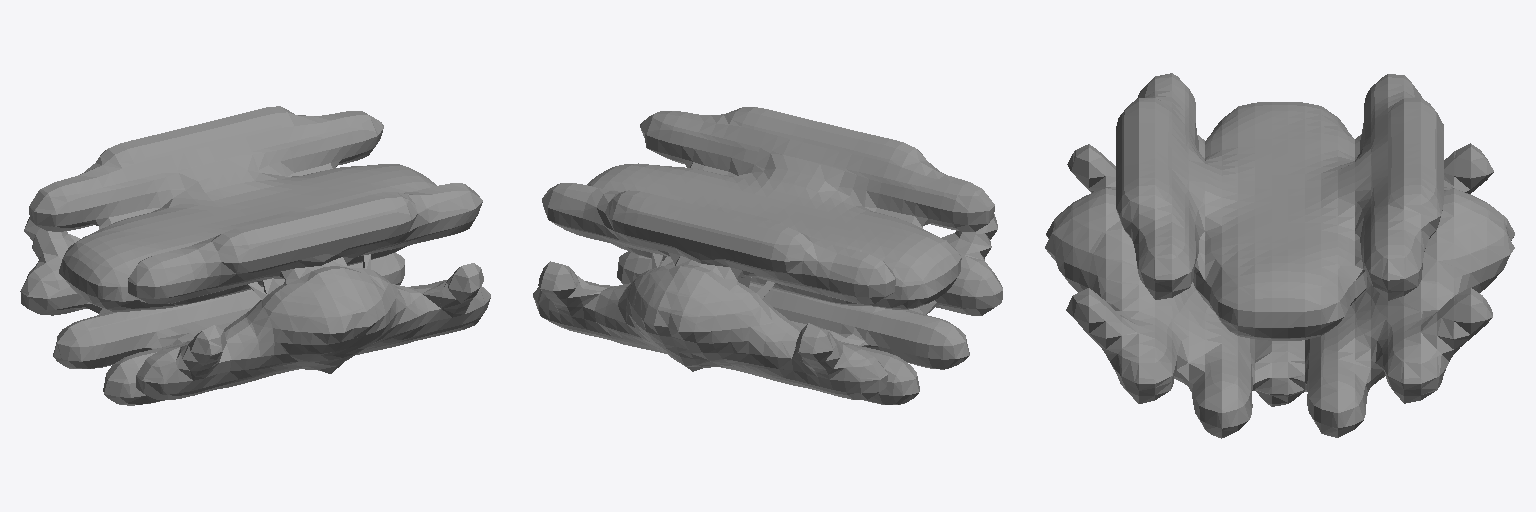
The robot description file, URDF, robot "cube.urdf":
<?xml version="0.0" ?> 
<robot name="cube.urdf"> 
<link name="legobrick"> 
<contact> 
<lateral_friction value="5.0"/> 
<rolling_friction value="0.0"/> 
<contact_cfm value="0.0"/> 
<contact_erp value="1.0"/> 
</contact> 
<inertial> 
<origin rpy="0 0 0" xyz="0.0 0.0 0.0"/> 
<mass value=".01"/> 
<inertia ixx="1" ixy="0" ixz="0" iyy="1" iyz="0" izz="1"/> 
</inertial> 
<visual> 
<origin rpy="1.570796 0 0" xyz="-0.02709587284114904 0.027067514178652424 -0.027647765552289254"/> 
<geometry> 
<mesh filename="S20_0.obj" scale="0.0005721584965002121 0.0005721584965002121 0.0005721584965002121"/> 
</geometry> 
<material name="yellow"> 
<color rgba="0.6 0.6 0.6 1"/> 
</material> 
</visual> 
<collision> 
<origin rpy="1.570796 0 0" xyz="-0.02709587284114904 0.027067514178652424 -0.027647765552289254"/> 
<geometry> 
<mesh filename="S20_0.obj" scale="0.0005721584965002121 0.0005721584965002121 0.0005721584965002121"/> 
</geometry> 
</collision> 
</link> 
</robot>

--- Render facts (derived) ---
The picture shows the robot from 3 angles, left to right: view 1: azimuth 30°, elevation 25°; view 2: azimuth 150°, elevation 25°; view 3: azimuth 270°, elevation 25°; orthographic projection.
Model cube.urdf with 1 links and 0 joints (none), rooted at legobrick, posed all joints at 0.
Visible links, largest first — view 1: legobrick; view 2: legobrick; view 3: legobrick.
Boxes of the visible links, x1,y1,x2,y2 form: legobrick: (20, 106, 490, 405); legobrick: (533, 107, 1002, 404); legobrick: (1045, 73, 1514, 438).
Size in the robot's own frame: 0.0572 by 0.056 by 0.0296 metres.
Meshes: 1 distinct files referenced, 1 mesh visuals loaded (1 OBJ).
